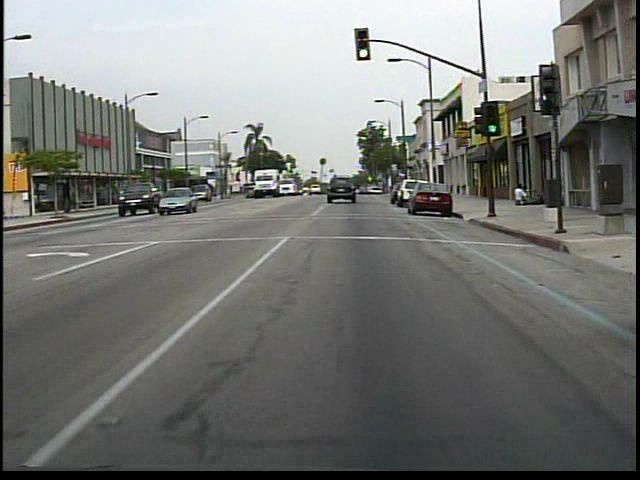person: (509, 183, 526, 207)
